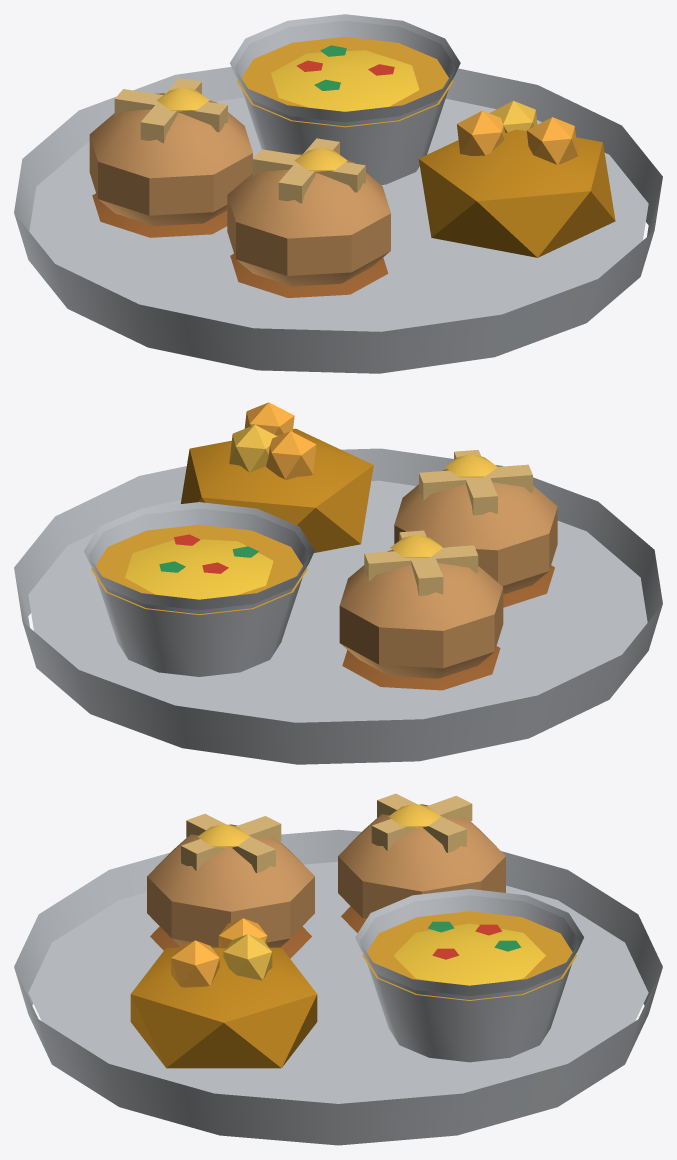
Rendered from pass_dal_baati.glb.
The picture shows the model from 3 angles, top to bottom: view 1: azimuth 30°, elevation 25°; view 2: azimuth 150°, elevation 25°; view 3: azimuth 270°, elevation 25°; orthographic projection.
Visible parts, largest first — view 1: pass_dal_baati; view 2: pass_dal_baati; view 3: pass_dal_baati.
Boxes of the visible parts, bbox=[...] form: pass_dal_baati: bbox=[14, 14, 662, 373]; pass_dal_baati: bbox=[14, 402, 662, 764]; pass_dal_baati: bbox=[14, 793, 662, 1145].
Size of the model in its own units: 0.272 by 0.0714 by 0.272.
Materials: 1 (1 with a texture image).
